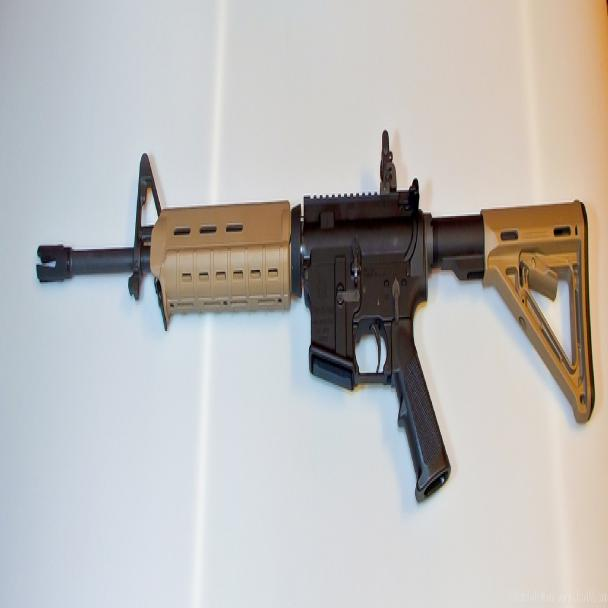Gun: (27, 105, 599, 524)
